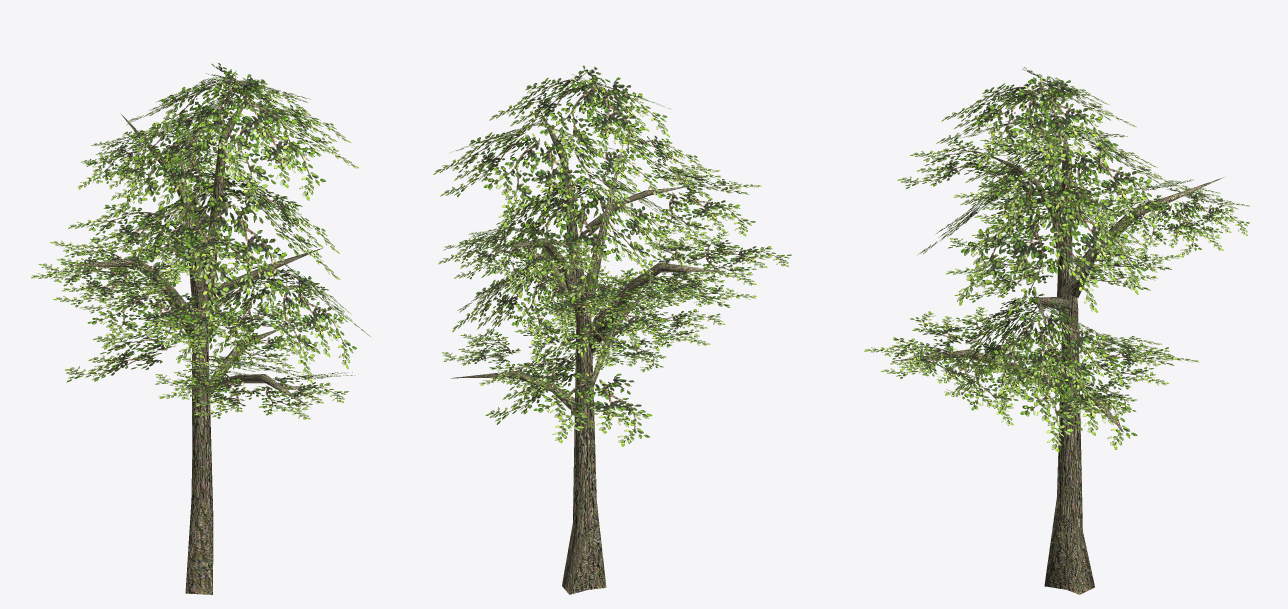
The model's file is tree_deci_a_1_la_100.glb.
The picture shows the model from 3 angles, left to right: view 1: azimuth 30°, elevation 25°; view 2: azimuth 150°, elevation 25°; view 3: azimuth 270°, elevation 25°; orthographic projection. The views are drawn at different scales.
Parts seen in each view (by area): view 1: tree_deci_a_1_la_100; view 2: tree_deci_a_1_la_100; view 3: tree_deci_a_1_la_100.
Part boxes in pixels (x1,y1,x2,y2): tree_deci_a_1_la_100: [31, 63, 370, 594]; tree_deci_a_1_la_100: [433, 65, 791, 594]; tree_deci_a_1_la_100: [864, 67, 1249, 594].
Bounding box in the file's own units: 22.84 × 34.34 × 23.95.
Materials: 1 (1 with a texture image).
